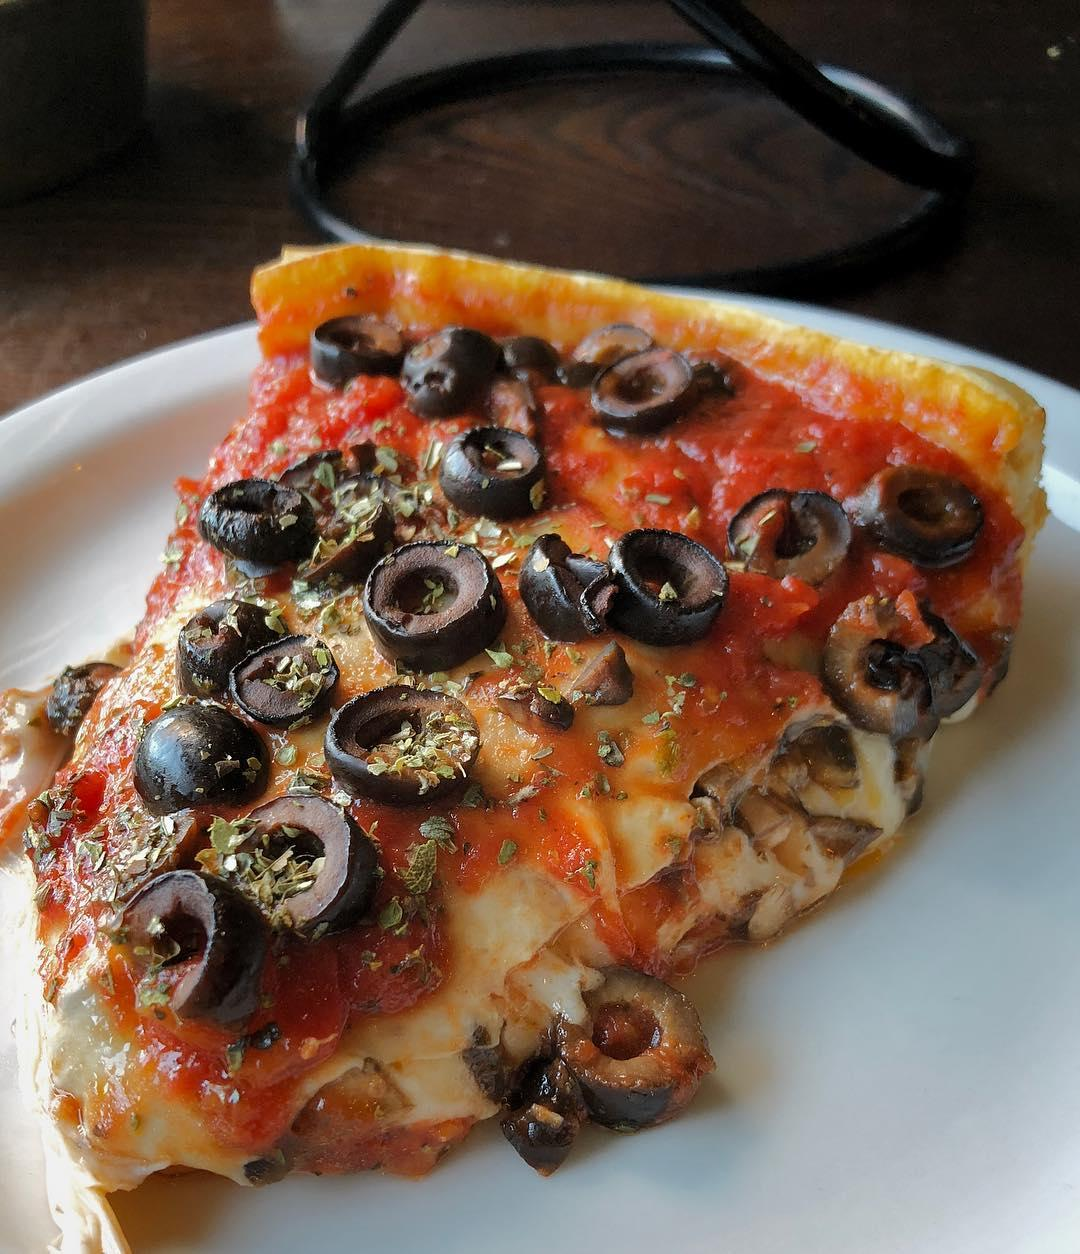Olives: (559, 964, 707, 1130), (115, 869, 267, 1022), (223, 794, 381, 940), (821, 602, 969, 735), (362, 541, 509, 672), (325, 685, 480, 803), (134, 706, 271, 813), (609, 530, 727, 642), (728, 491, 851, 585), (179, 599, 290, 701), (868, 467, 977, 567), (230, 634, 340, 725), (439, 427, 546, 517), (198, 480, 316, 561), (590, 350, 697, 432), (522, 536, 608, 636), (403, 328, 499, 415), (309, 316, 403, 390), (47, 662, 126, 735), (574, 325, 655, 375), (499, 338, 559, 384)
Pizza: (41, 242, 1042, 1186)
